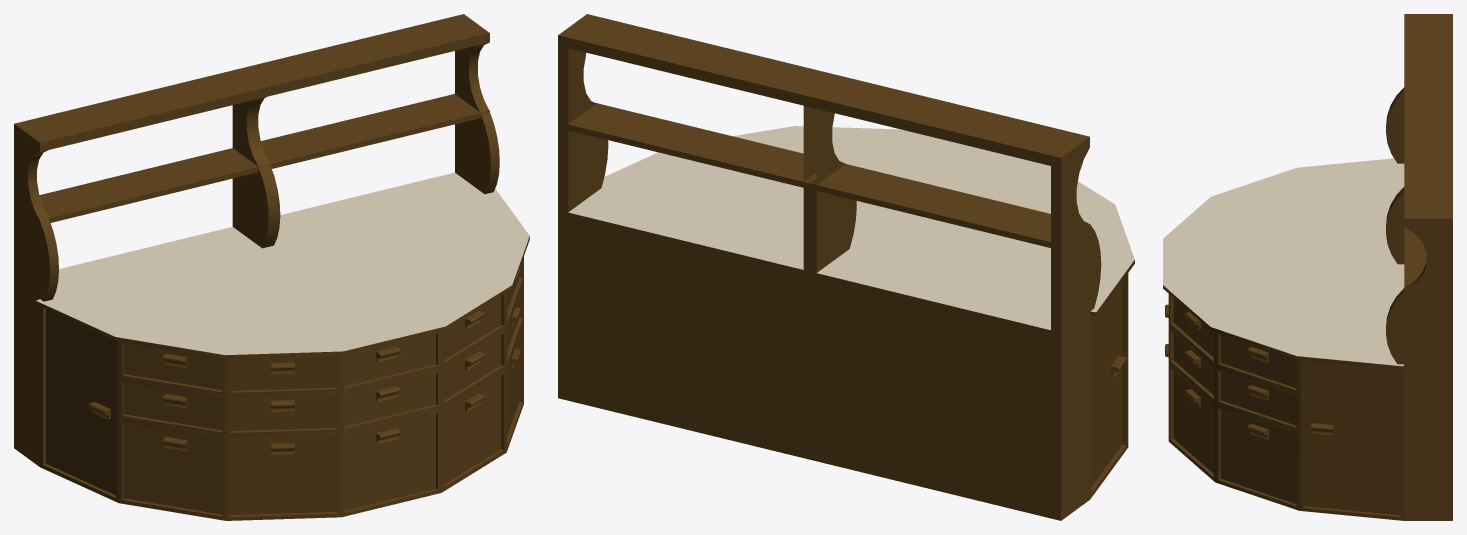
File: desk.obj
3 views of the same model, side by side, from view 1: azimuth 30°, elevation 25°; view 2: azimuth 150°, elevation 25°; view 3: azimuth 270°, elevation 25° (orthographic). The views are drawn at different scales.
Parts seen in each view (by area): view 1: Mesh18 bench1 Model; view 2: Mesh18 bench1 Model; view 3: Mesh18 bench1 Model.
Part boxes in pixels (x1=…): Mesh18 bench1 Model: x1=14, y1=14, x2=529, y2=520; Mesh18 bench1 Model: x1=558, y1=14, x2=1134, y2=520; Mesh18 bench1 Model: x1=1163, y1=14, x2=1452, y2=520.
Size of the model in its own units: 255 by 172 by 150.
